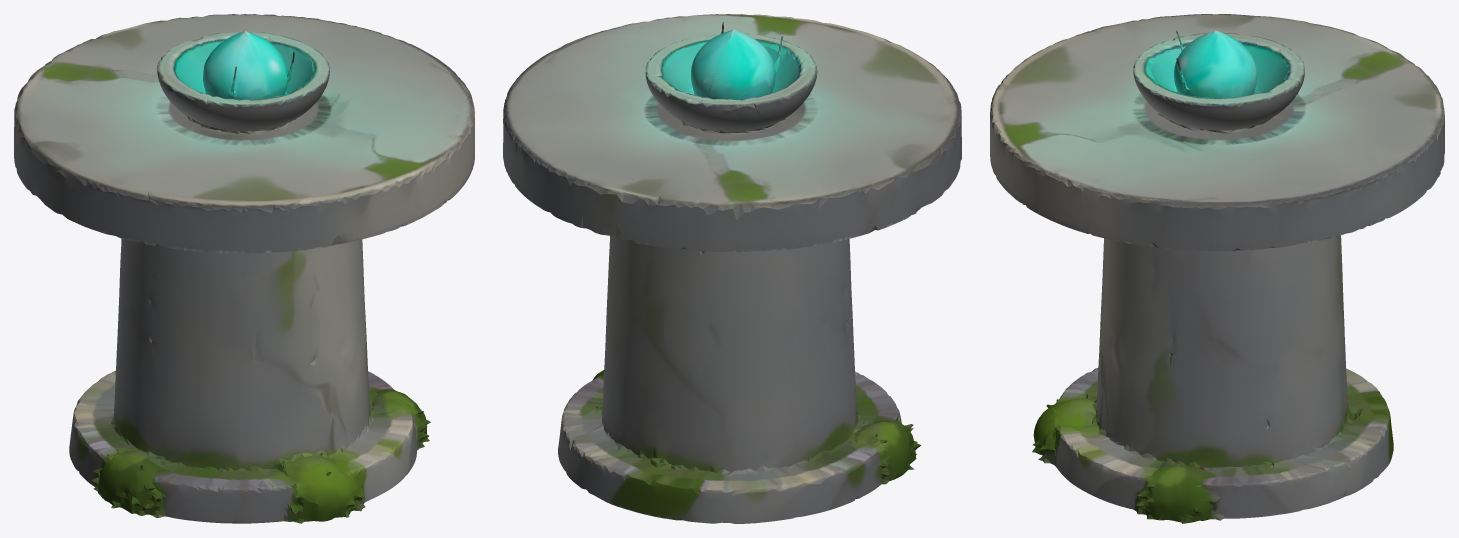
The model's file is rodin_Lab_Pedestal_raw.glb.
3 views of the same model, side by side, from view 1: azimuth 30°, elevation 25°; view 2: azimuth 150°, elevation 25°; view 3: azimuth 270°, elevation 25° (orthographic).
Visible parts, largest first — view 1: model; view 2: model; view 3: model.
Boxes of the visible parts, <box> form: model: <box>14,14,474,523</box>; model: <box>503,14,961,523</box>; model: <box>990,14,1444,523</box>.
Size of the model in its own units: 1.26 by 1.27 by 1.25.
Materials: 1 (1 with a texture image).
